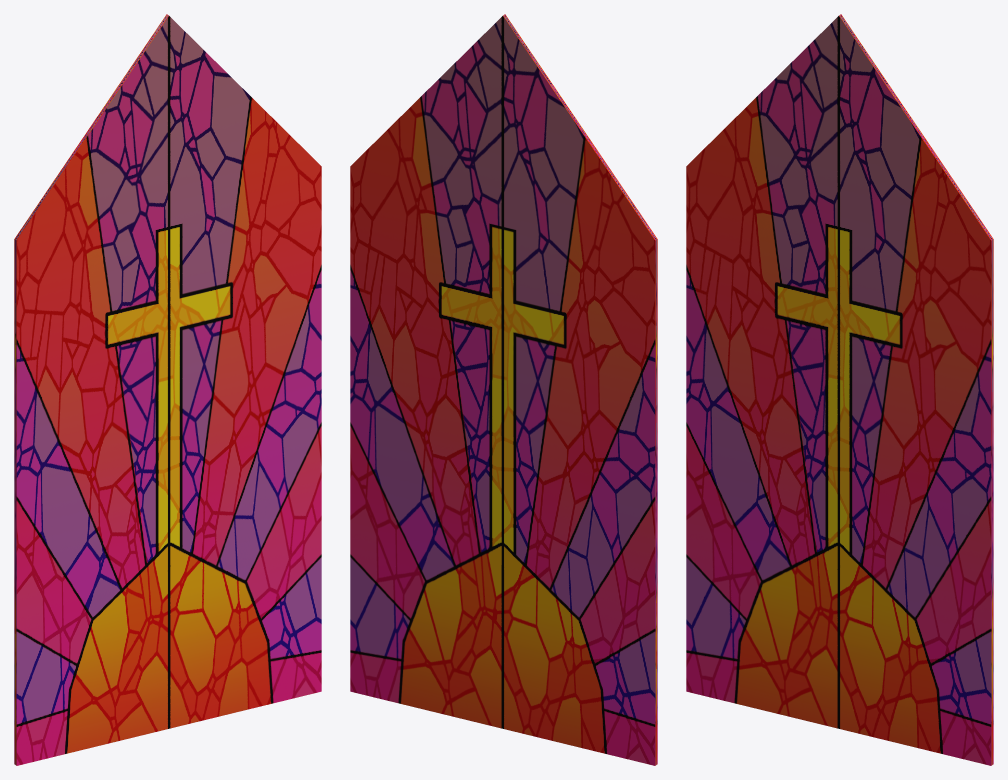
File: Window.fbx
3 views of the same model, side by side, from view 1: azimuth 30°, elevation 25°; view 2: azimuth 150°, elevation 25°; view 3: azimuth 330°, elevation 25° (orthographic).
Parts seen in each view (by area): view 1: MainWindow001, MainWindow001_Part_6, MainWindow001_Part_2, MainWindow001_Part_9, MainWindow001_Part_1, MainWindow001_Part_8, MainWindow001_Part_4, MainWindow001_Part_7; view 2: MainWindow001, MainWindow001_Part_3, MainWindow001_Part_2, MainWindow001_Part_6, MainWindow001_Part_5, MainWindow001_Part_9, MainWindow001_Part_8, MainWindow001_Part_7, MainWindow001_Part_1, MainWindow001_Part_4; view 3: MainWindow001, MainWindow001_Part_6, MainWindow001_Part_7, MainWindow001_Part_2, MainWindow001_Part_8, MainWindow001_Part_9, MainWindow001_Part_1, MainWindow001_Part_4, MainWindow001_Part_5.
Boxes of the visible parts, x1=… form: MainWindow001: x1=14, y1=14, x2=321, y2=765; MainWindow001_Part_6: x1=14, y1=212, x2=321, y2=447; MainWindow001_Part_2: x1=14, y1=127, x2=229, y2=389; MainWindow001_Part_9: x1=157, y1=399, x2=320, y2=621; MainWindow001_Part_1: x1=223, y1=398, x2=321, y2=605; MainWindow001_Part_8: x1=179, y1=607, x2=321, y2=722; MainWindow001_Part_4: x1=104, y1=16, x2=198, y2=188; MainWindow001_Part_7: x1=14, y1=536, x2=192, y2=765; MainWindow001: x1=350, y1=14, x2=657, y2=765; MainWindow001_Part_3: x1=417, y1=428, x2=657, y2=589; MainWindow001_Part_2: x1=442, y1=125, x2=657, y2=389; MainWindow001_Part_6: x1=350, y1=212, x2=657, y2=447; MainWindow001_Part_5: x1=350, y1=32, x2=486, y2=229; MainWindow001_Part_9: x1=352, y1=399, x2=515, y2=615; MainWindow001_Part_8: x1=350, y1=597, x2=495, y2=726; MainWindow001_Part_7: x1=479, y1=536, x2=657, y2=765; MainWindow001_Part_1: x1=350, y1=399, x2=448, y2=605; MainWindow001_Part_4: x1=473, y1=16, x2=575, y2=188; MainWindow001: x1=686, y1=14, x2=993, y2=765; MainWindow001_Part_6: x1=686, y1=261, x2=991, y2=472; MainWindow001_Part_7: x1=686, y1=465, x2=861, y2=730; MainWindow001_Part_2: x1=686, y1=90, x2=899, y2=314; MainWindow001_Part_8: x1=846, y1=632, x2=991, y2=765; MainWindow001_Part_9: x1=825, y1=470, x2=989, y2=632; MainWindow001_Part_1: x1=895, y1=472, x2=991, y2=648; MainWindow001_Part_4: x1=767, y1=16, x2=867, y2=201; MainWindow001_Part_5: x1=868, y1=195, x2=991, y2=285.
Size of the model in its own units: 295 by 660 by 3.94.
1 material, 1 textured.
